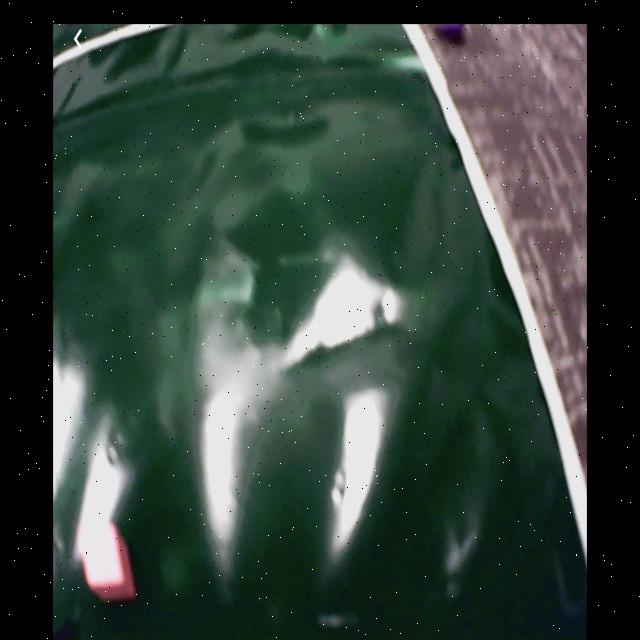ball: (437, 26, 470, 43)
